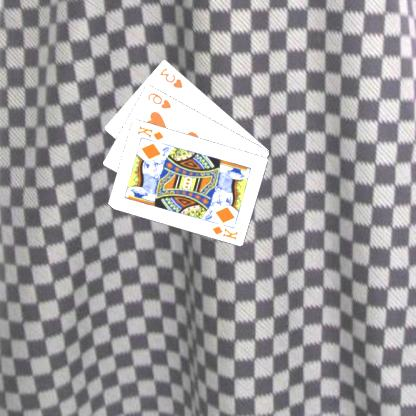3H: (159, 65, 186, 89)
6H: (147, 89, 174, 110)
KD: (136, 123, 167, 141), (211, 223, 241, 241)
